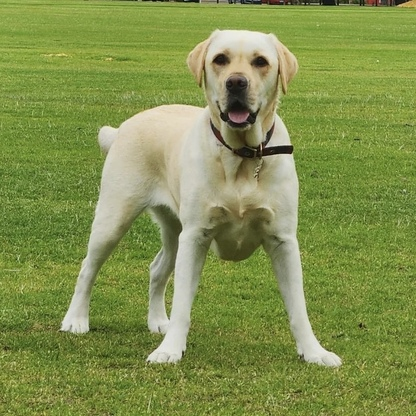labrado: (56, 24, 352, 378)
